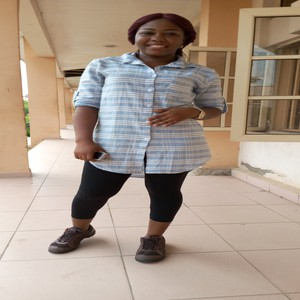Fulokoja_female_student: (85, 14, 209, 267)
